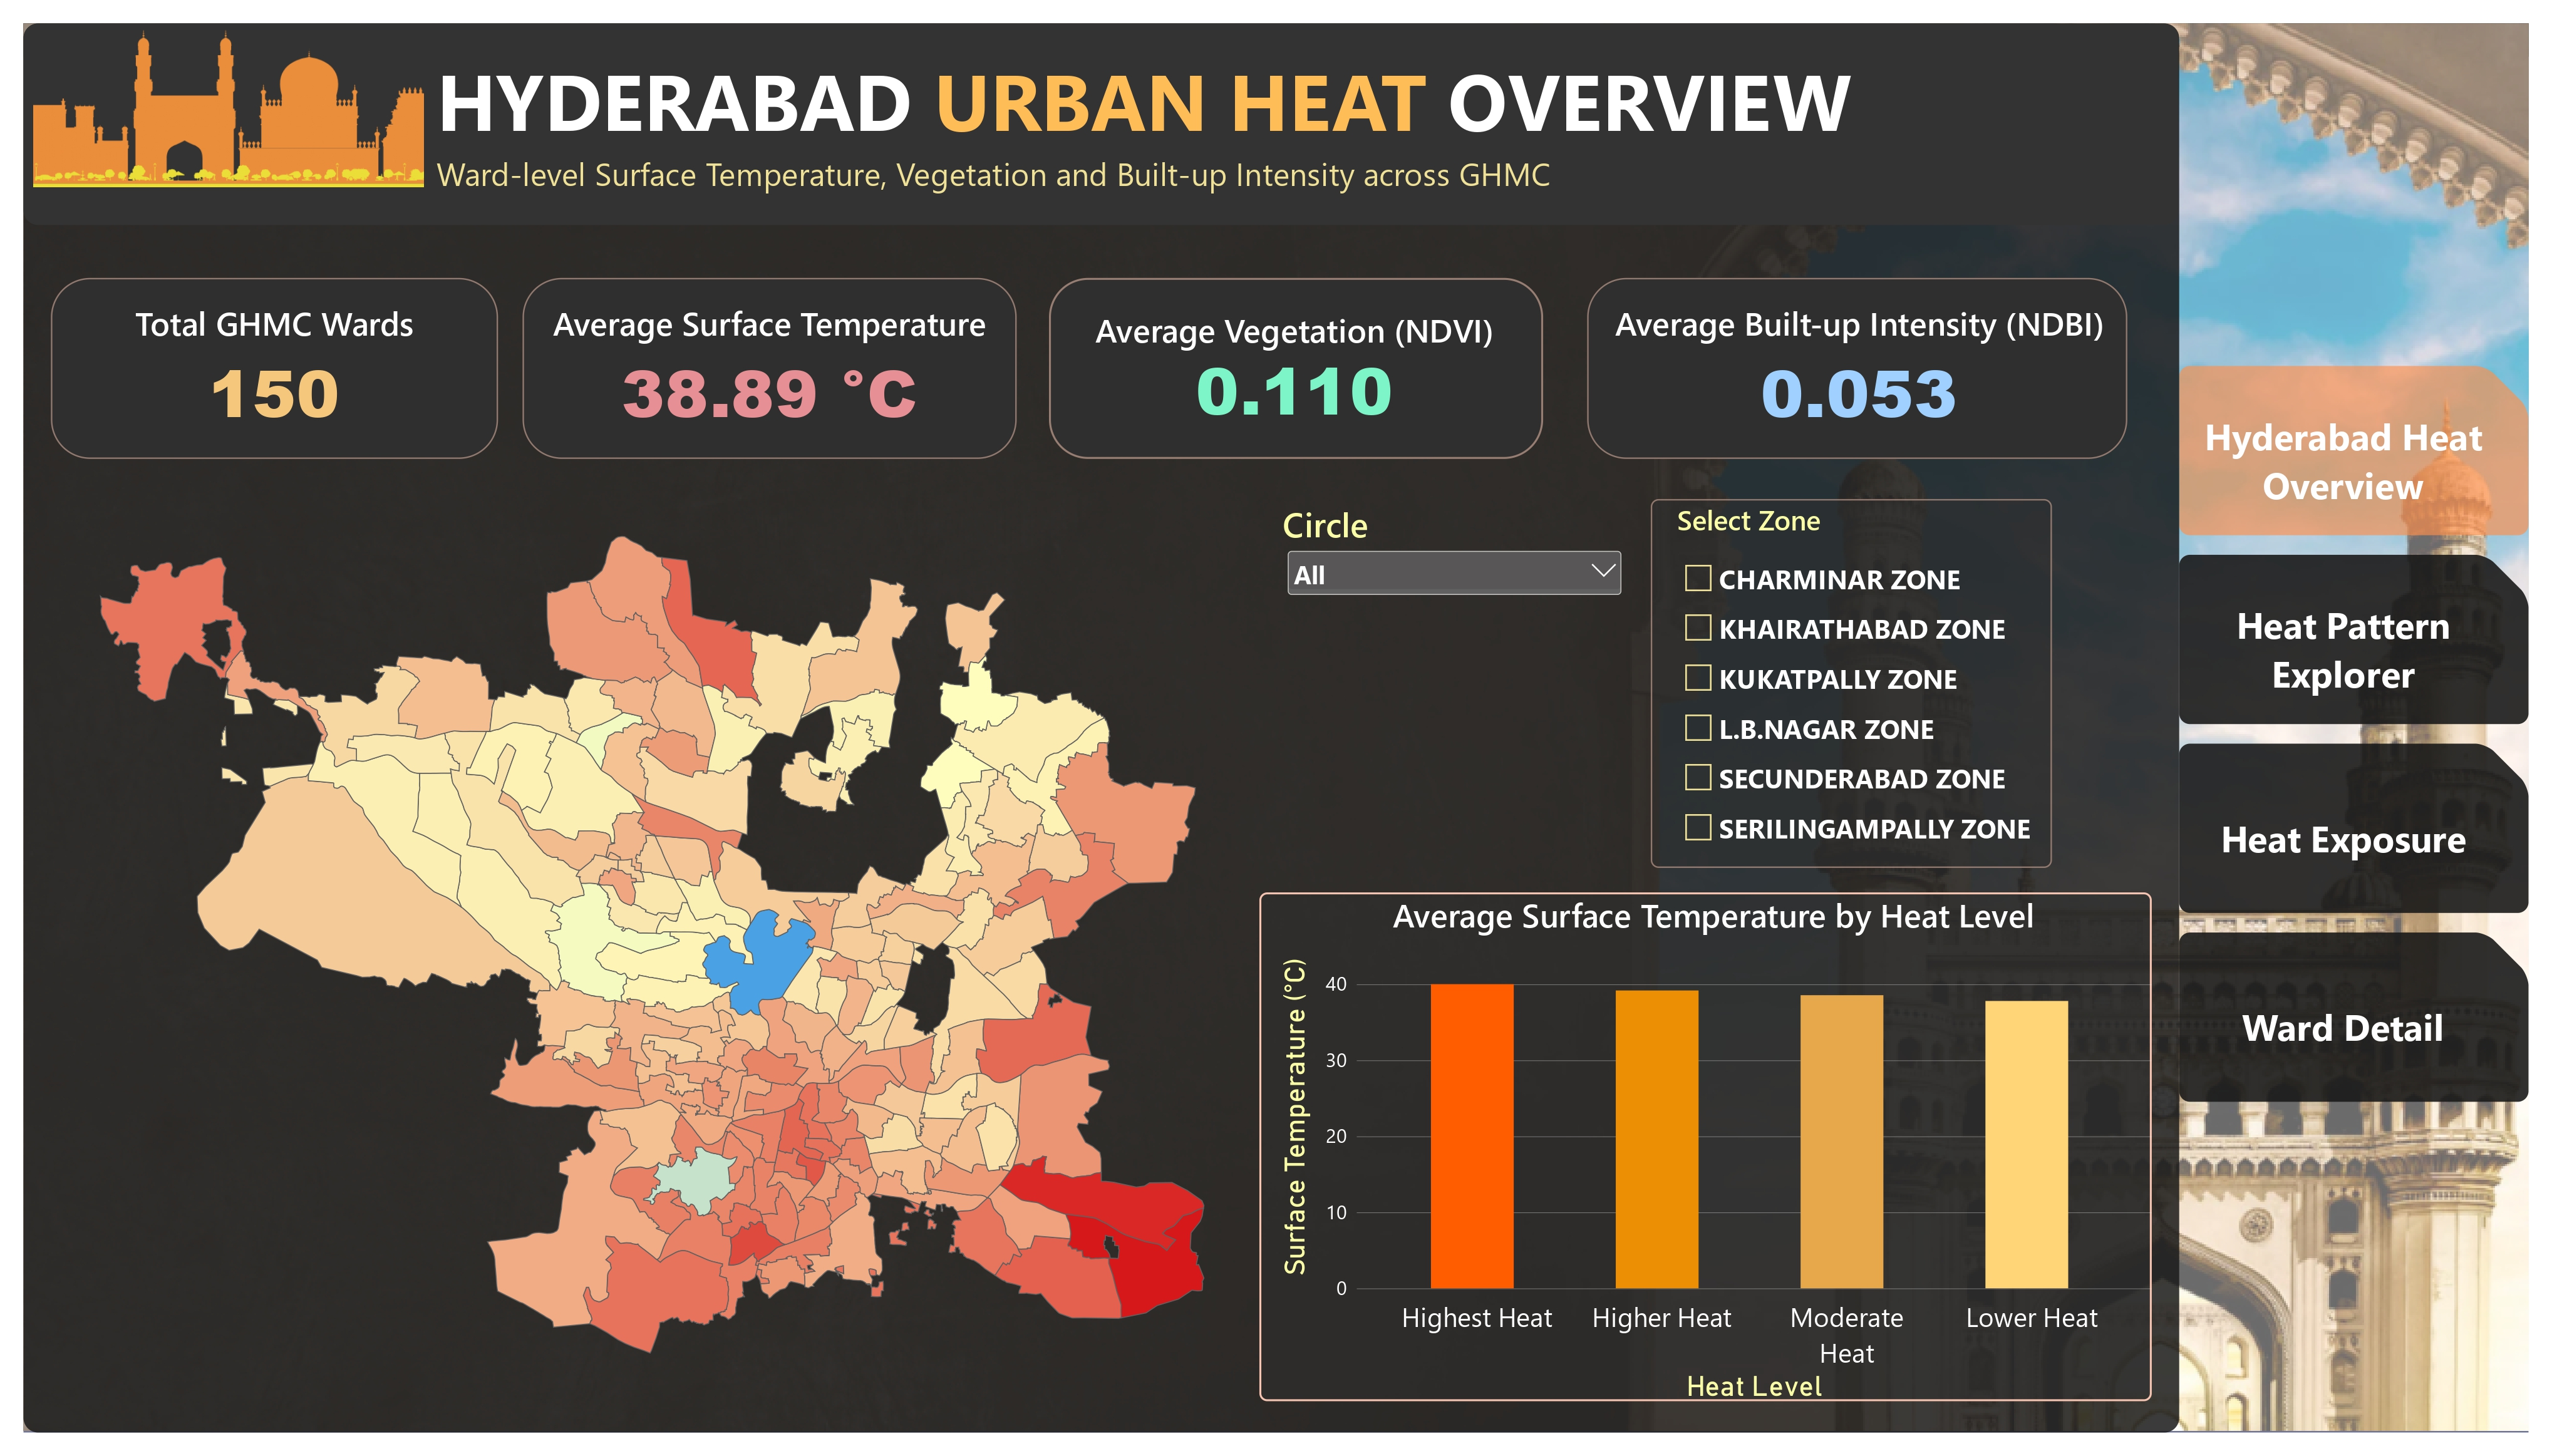

Layout of this report page (visuals, bound fields, positions):
{"tool":"powerbi","page":{"name":"Hyderabad Heat Overview","canvas":[2560,1440],"ordinal":0},"visuals":[{"type":"pageNavigator","box":[2202.5,350,357.5,752.5],"z":0},{"type":"shape","box":[0,0,2202.5,1440],"z":1000},{"type":"shape","box":[27.5,260,457.5,185],"z":2000},{"type":"cardVisual","title":"Total GHMC Wards","fields":{"Data":["Ward Heat Analysis.Total Wards"]},"box":[102.5,282.5,307.5,140],"z":3000},{"type":"shapeMap","fields":{"Category":["Ward Heat Analysis.ward_id"],"Value":["Avg(Ward Heat Analysis.lst_2025_c)"]},"box":[0,445,1285,995],"z":4000},{"type":"shape","box":[510,260,505,185],"z":4500},{"type":"cardVisual","title":"Average Surface Temperature","fields":{"Data":["Ward Heat Analysis.Average Surface Temperature Display"]},"box":[535,282.5,455,140],"z":5000},{"type":"shape","box":[1047.5,260,505,185],"z":5500},{"type":"shape","box":[1597.5,260,552.5,185],"z":5750},{"type":"cardVisual","title":"Average Vegetation (NDVI)","fields":{"Data":["Ward Heat Analysis.Average NDVI"]},"box":[1082.5,290,432.5,122.5],"z":6000},{"type":"shape","box":[1662.9,485.7,410,377.1],"z":6500},{"type":"cardVisual","title":"Average Built-up Intensity (NDBI)","fields":{"Data":["Ward Heat Analysis.Average NDBI"]},"box":[1615,282.5,522.5,140],"z":7000},{"type":"slicer","title":"Select Zone","fields":{"Values":["Ward Heat Analysis.zone"]},"box":[1690,486.7,366,362],"z":8000},{"type":"slicer","title":"Circle","fields":{"Values":["Ward Heat Analysis.circle"]},"box":[1286.7,486.7,351,103],"z":9000},{"type":"shape","box":[1262.5,887.5,912.5,520],"z":9500},{"type":"columnChart","title":"Average Surface Temperature by Heat Level","fields":{"Category":["Ward Heat Analysis.heat_level"],"Y":["Avg(Ward Heat Analysis.lst_2025_c)"]},"box":[1280,887.5,895,520],"z":10000},{"type":"shape","box":[0,0,2202,206],"z":11000},{"type":"textbox","box":[422,24,1518,156],"z":12000},{"type":"image","box":[10,0,398.9,166.7],"z":13000}]}

Visuals, with their boxes on the page's 2560x1440 design canvas (x1, y1, x2, y2). These are canvas units, not pixel positions in the 2552x1456 screenshot, which may show the page scaled, cropped or inside an application window:
pageNavigator: [2202,350,2560,1102]
shape: [0,0,2202,1440]
shape: [28,260,485,445]
"Total GHMC Wards" cardVisual: [102,282,410,422]
shapeMap - Ward Heat Analysis.ward_id x Avg(Ward Heat Analysis.lst_2025_c): [0,445,1285,1440]
shape: [510,260,1015,445]
"Average Surface Temperature" cardVisual: [535,282,990,422]
shape: [1048,260,1552,445]
shape: [1598,260,2150,445]
"Average Vegetation (NDVI)" cardVisual: [1082,290,1515,412]
shape: [1663,486,2073,863]
"Average Built-up Intensity (NDBI)" cardVisual: [1615,282,2138,422]
"Select Zone" slicer: [1690,487,2056,849]
"Circle" slicer: [1287,487,1638,590]
shape: [1262,888,2175,1408]
"Average Surface Temperature by Heat Level" columnChart: [1280,888,2175,1408]
shape: [0,0,2202,206]
textbox: [422,24,1940,180]
image: [10,0,409,167]
